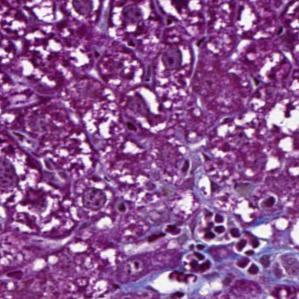inflammation: (190, 202, 245, 247)
